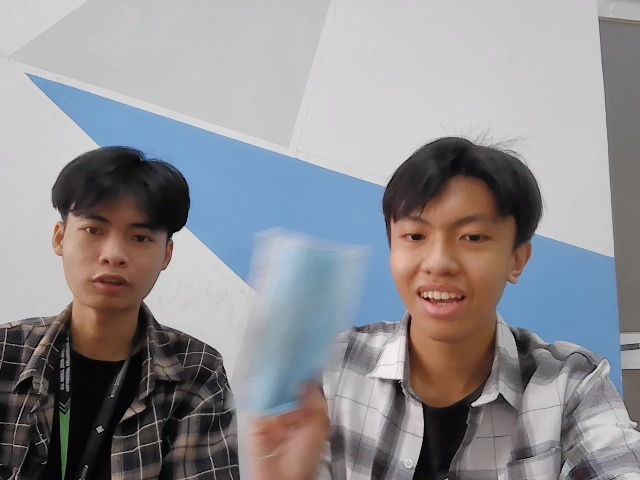human: (382, 132, 549, 341), (53, 145, 194, 315)
